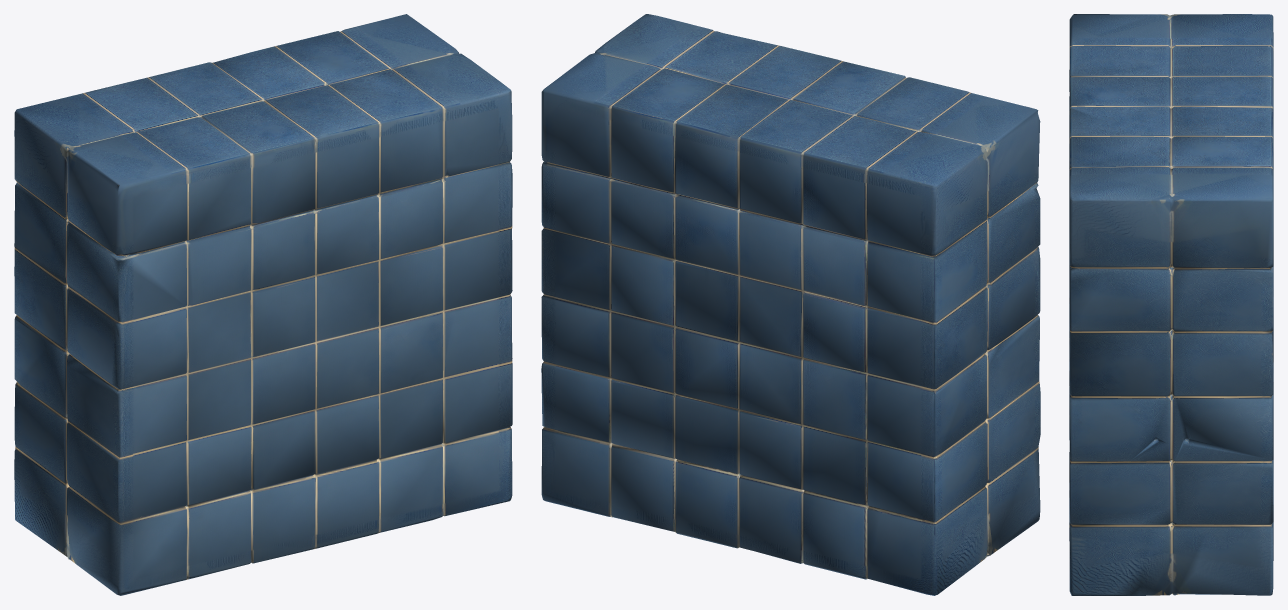
The model's file is Meshy_AI_Cerulean_Grid_0610053936_texture.fbx.
3 renders of one model, left to right at view 1: azimuth 30°, elevation 25°; view 2: azimuth 150°, elevation 25°; view 3: azimuth 270°, elevation 25°, orthographic. The views are drawn at different scales.
Visible parts, largest first — view 1: Mesh_0; view 2: Mesh_0; view 3: Mesh_0.
Part boxes in pixels (x1,y1,x2,y2): Mesh_0: (14, 14, 512, 595); Mesh_0: (541, 14, 1040, 595); Mesh_0: (1069, 14, 1273, 595).
Size of the model in its own units: 191 by 190 by 88.56.
Materials: 1 (1 with a texture image).
